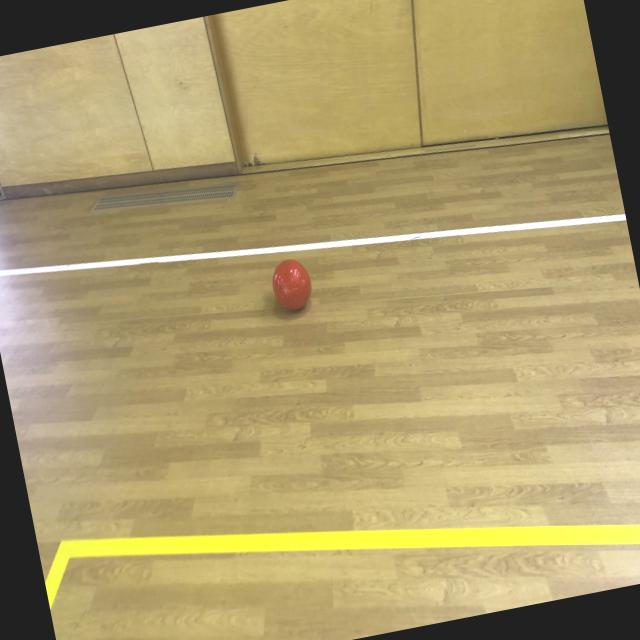red_ball: (268, 254, 314, 314)
